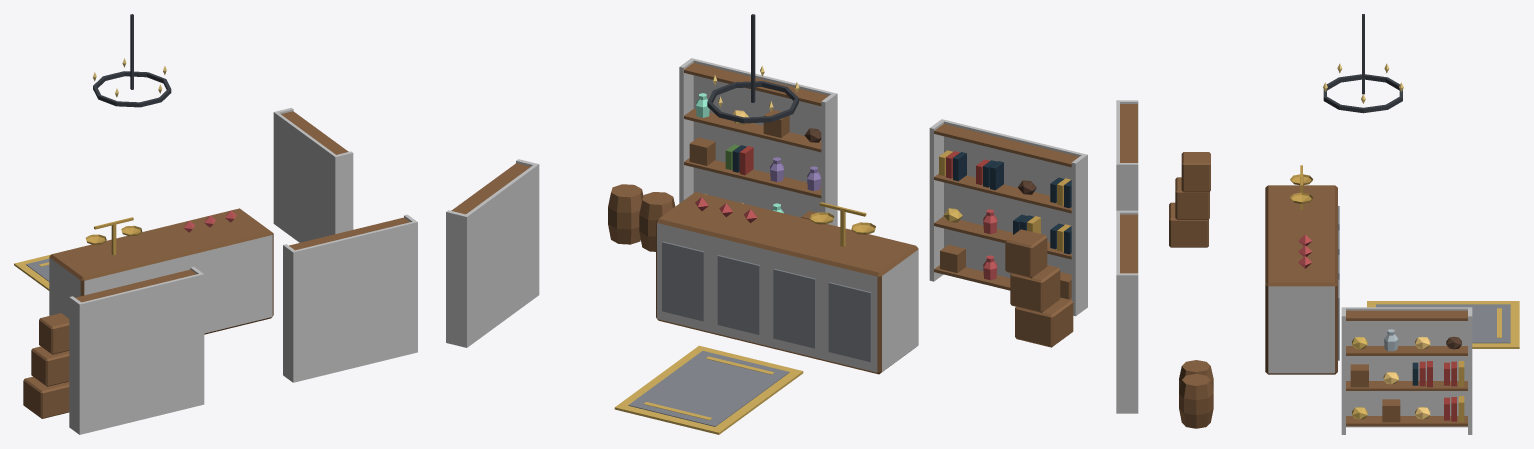
The model's file is ShopInterior.obj.
The picture shows the model from 3 angles, left to right: view 1: azimuth 30°, elevation 25°; view 2: azimuth 150°, elevation 25°; view 3: azimuth 270°, elevation 25°; orthographic projection. The views are drawn at different scales.
Size of the model in its own units: 13.25 by 9.46 by 11.1.
